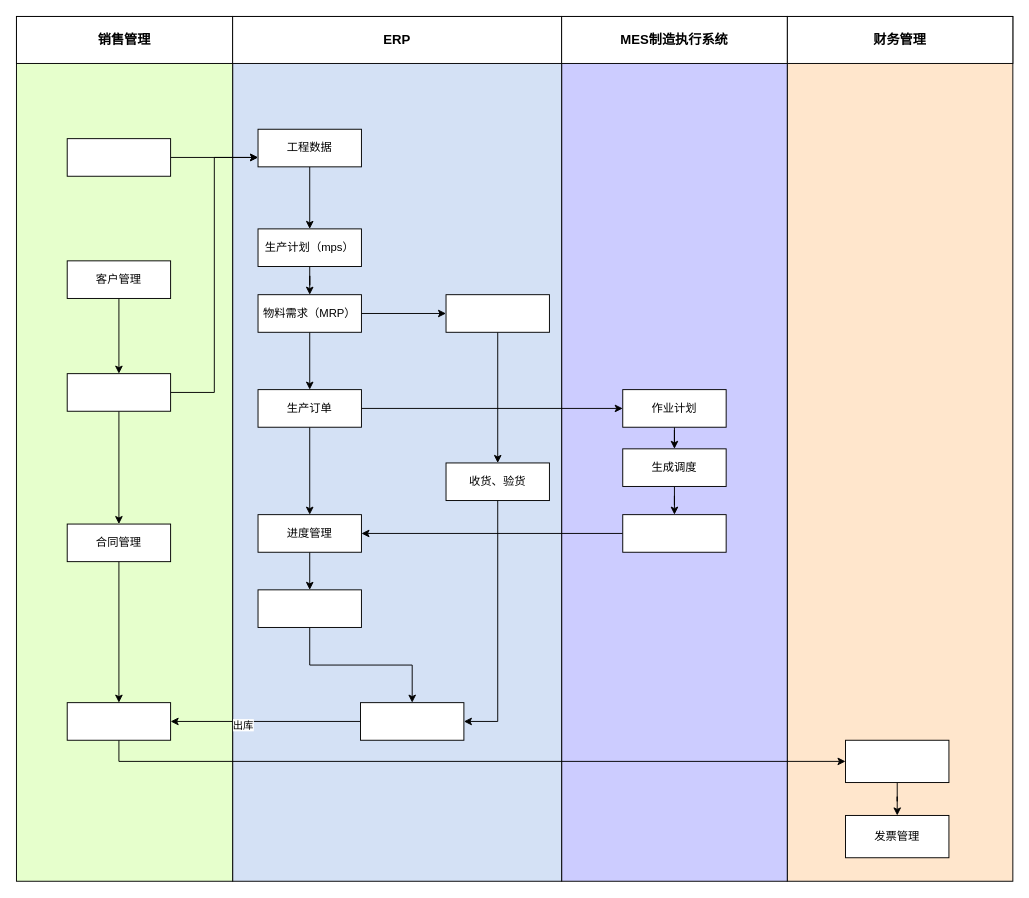
This 1029x898 diagram has some shape labels left out. The centre of each missing label's shape, as x and y in pixels:
"库存管理" belongs at (x=412, y=721).
"收付款管理" belongs at (x=897, y=761).
"检验、入库" belongs at (x=309, y=608).
"物料采购单" belongs at (x=497, y=313).
"进度反馈" belongs at (x=674, y=533).
"追加、预投" belongs at (x=118, y=157).
"销售出货" belongs at (x=118, y=721).
"销售订单" belongs at (x=118, y=392).
